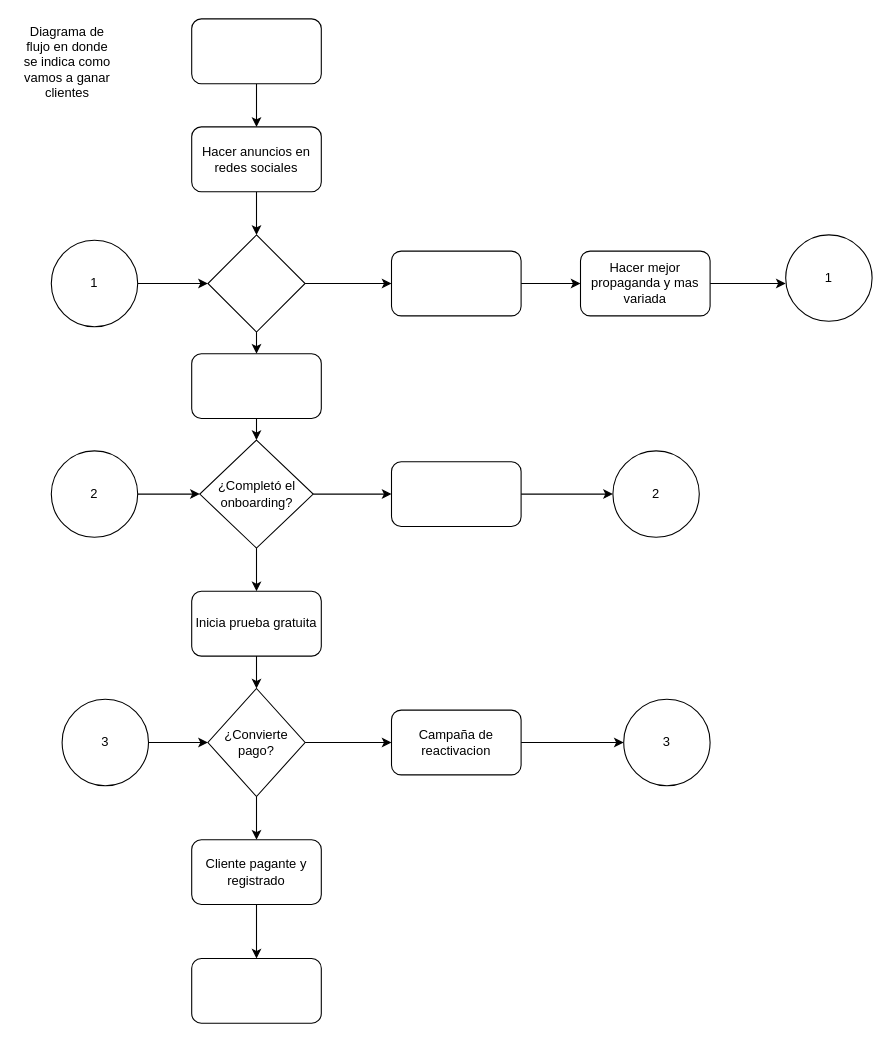
Some shapes in this 891 by 1042 pixel diagram are drawn without their labels. The shapes that lost their labels are listed below. From the top down, each one's centre as x and y in pixels, then its label:
At pixel 256 51: "Inicio".
At pixel 256 283: "¿Le interesa?".
At pixel 455 283: "No se registra".
At pixel 256 385: "Se registra gratis".
At pixel 455 493: "Recordatorio por email".
At pixel 256 990: "Fin".
